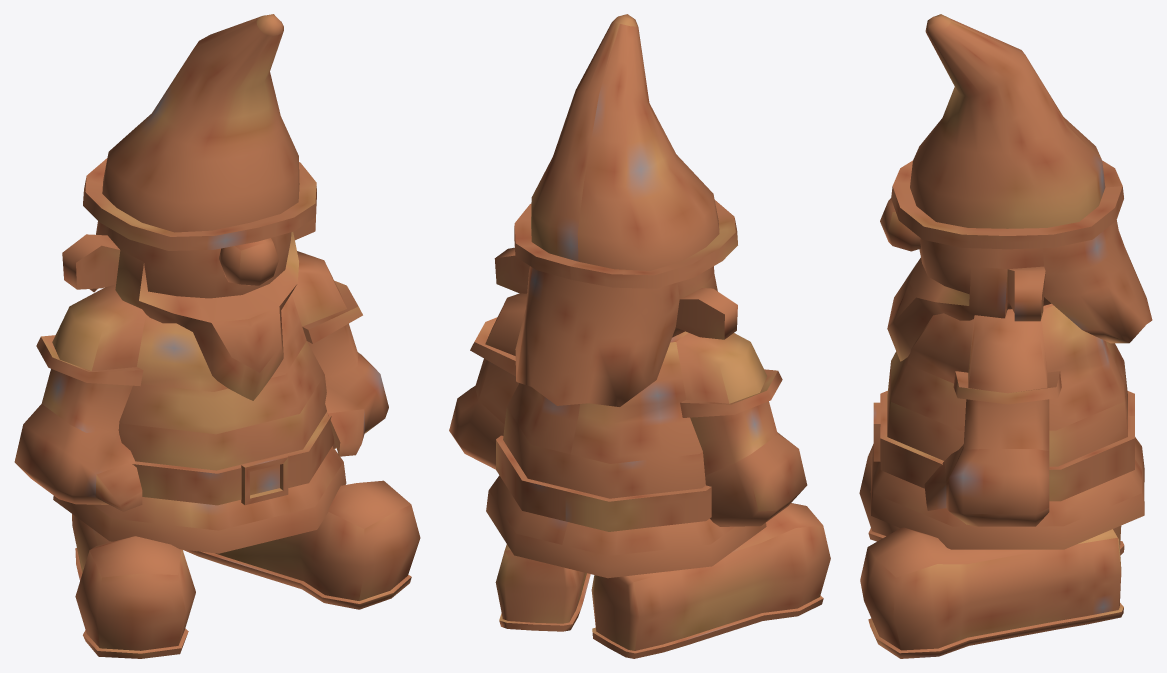
The model's file is Prop_Gnomo_Fracture.fbx.
The picture shows the model from 3 angles, left to right: view 1: azimuth 30°, elevation 25°; view 2: azimuth 150°, elevation 25°; view 3: azimuth 270°, elevation 25°; orthographic projection. The views are drawn at different scales.
Visible parts, largest first — view 1: Cube.003, Cube.001, Cube.004, Cube.005, Cube.006, Cube.007, Cube.002; view 2: Cube.003, Cube.001, Cube.004, Cube.006, Cube.005; view 3: Cube.003, Cube.001, Cube.005, Cube.004, Cube.006, Cube.007, Cube.002.
Part boxes in pixels (bbox=[...]): Cube.003: bbox=[14, 251, 388, 553]; Cube.001: bbox=[83, 14, 316, 250]; Cube.004: bbox=[62, 205, 316, 400]; Cube.005: bbox=[183, 480, 420, 609]; Cube.006: bbox=[72, 514, 195, 658]; Cube.007: bbox=[219, 238, 278, 285]; Cube.002: bbox=[241, 454, 288, 505]; Cube.003: bbox=[449, 293, 807, 578]; Cube.001: bbox=[514, 14, 737, 288]; Cube.004: bbox=[494, 247, 737, 406]; Cube.006: bbox=[591, 503, 830, 658]; Cube.005: bbox=[495, 544, 590, 631]; Cube.003: bbox=[870, 303, 1144, 549]; Cube.001: bbox=[891, 14, 1123, 249]; Cube.005: bbox=[860, 527, 1123, 658]; Cube.004: bbox=[887, 220, 1152, 361]; Cube.006: bbox=[859, 444, 1124, 555]; Cube.007: bbox=[880, 198, 920, 251]; Cube.002: bbox=[873, 402, 880, 461].
Size of the model in its own units: 0.4112 by 0.6683 by 0.3043.
